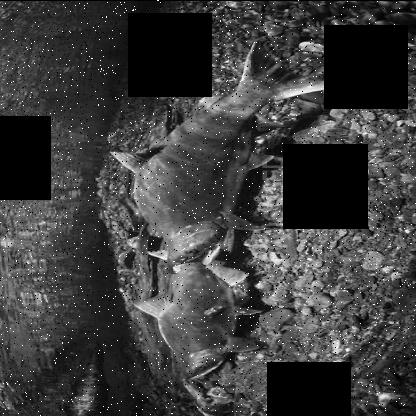fish: (108, 42, 344, 268), (150, 250, 258, 380)
